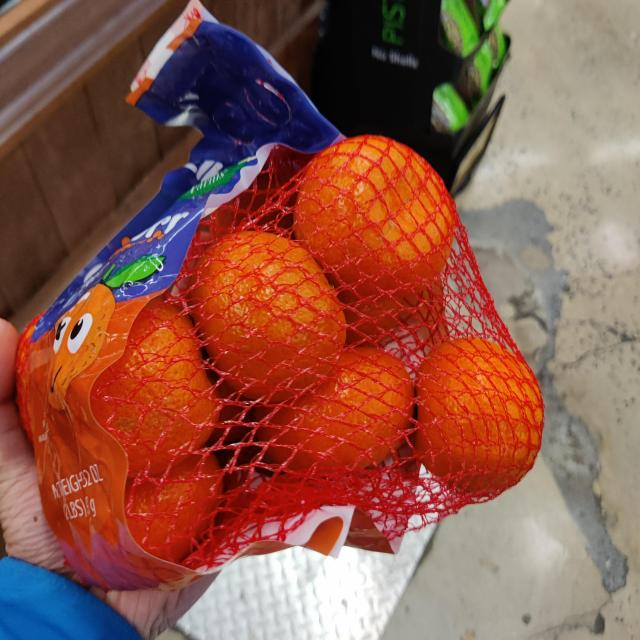Oranges: (44, 141, 544, 572)
